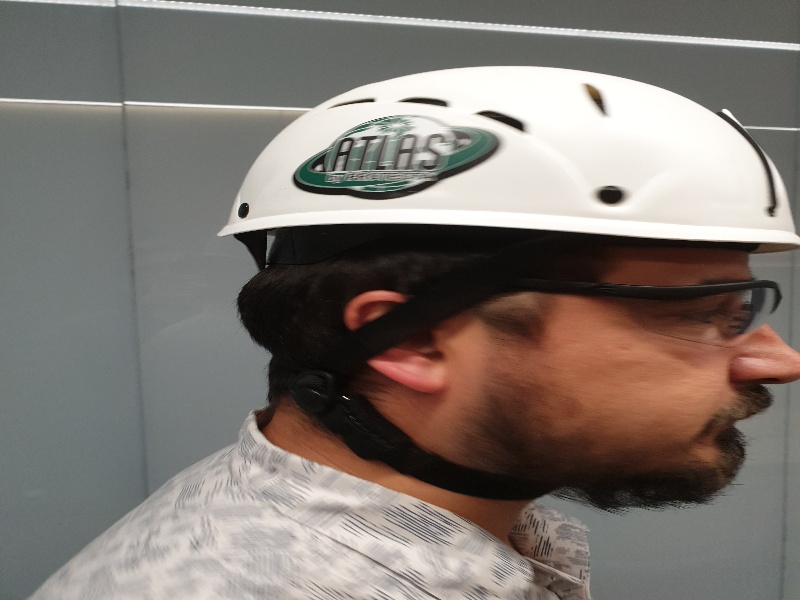Baret: (218, 65, 797, 245)
Gozluk: (498, 278, 783, 337)
